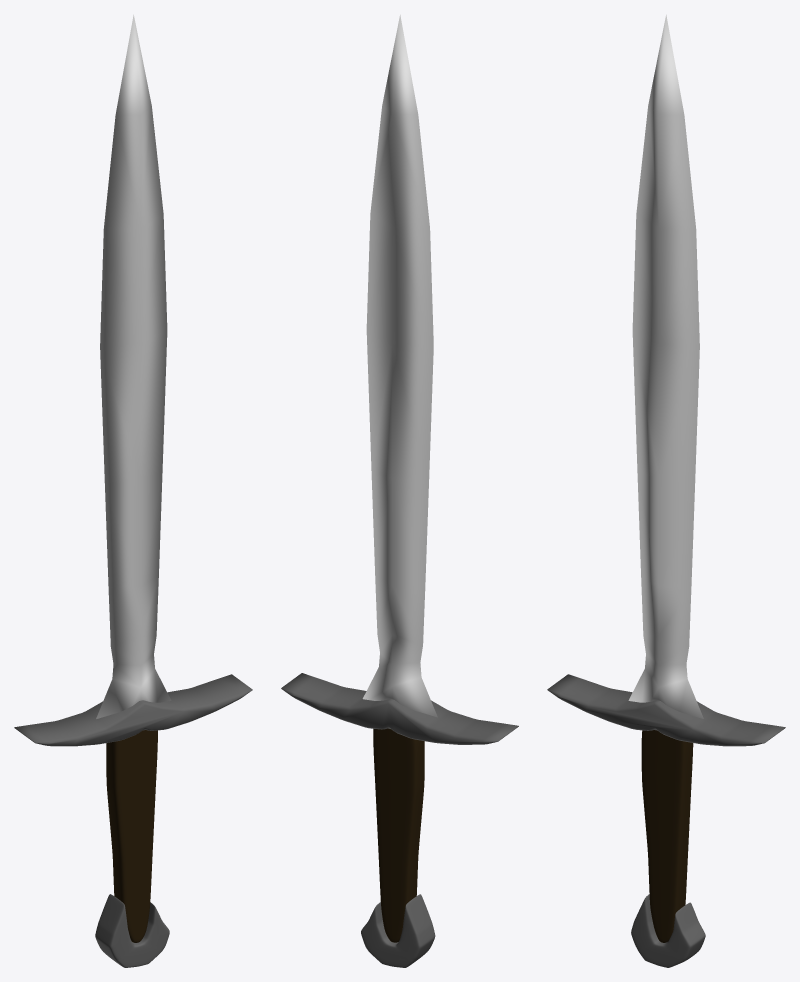
Rendered from sword.fbx.
The picture shows the model from 3 angles, left to right: view 1: azimuth 30°, elevation 25°; view 2: azimuth 150°, elevation 25°; view 3: azimuth 330°, elevation 25°; orthographic projection.
Parts seen in each view (by area): view 1: Plane; view 2: Plane; view 3: Plane.
Part boxes in pixels (x1,y1,x2,y2): Plane: (14, 14, 252, 967); Plane: (281, 14, 518, 967); Plane: (547, 14, 785, 967).
Size of the model in its own units: 109 by 452 by 20.08.
